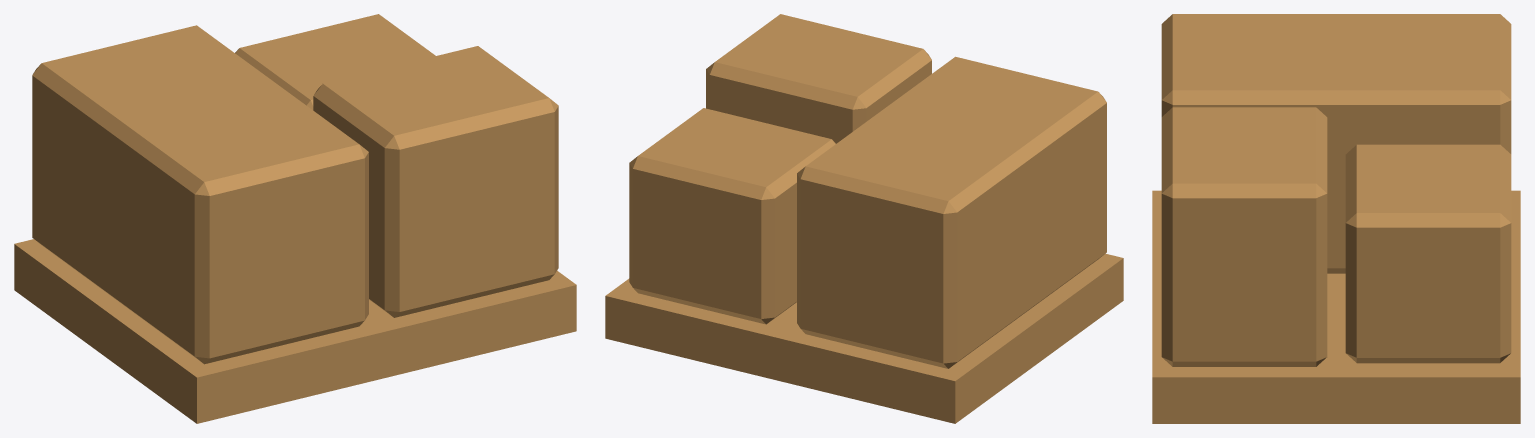
File: crates.glb
3 views of the same model, side by side, from view 1: azimuth 30°, elevation 25°; view 2: azimuth 150°, elevation 25°; view 3: azimuth 270°, elevation 25° (orthographic). The views are drawn at different scales.
Visible parts, largest first — view 1: crates_body; view 2: crates_body; view 3: crates_body.
Part boxes in pixels (<box>): crates_body: <box>14,14,576,423</box>; crates_body: <box>605,14,1123,423</box>; crates_body: <box>1152,14,1520,423</box>.
Bounding box in the file's own units: 1.2 × 0.695 × 1.
